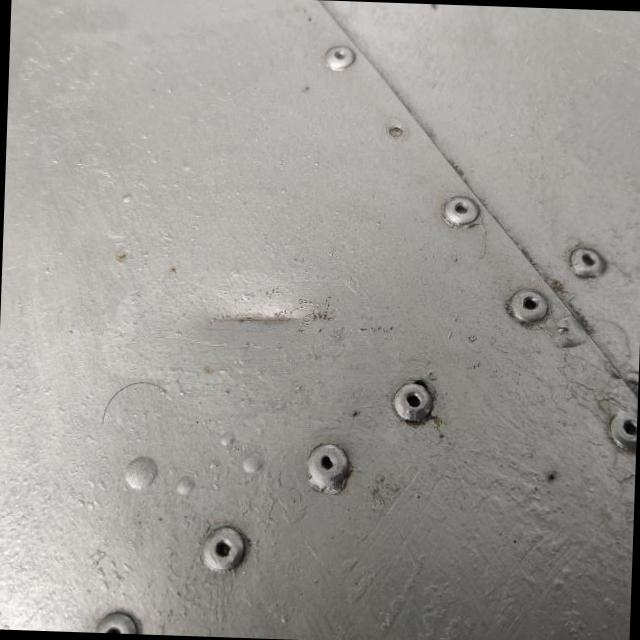Dent: (172, 254, 334, 412)
